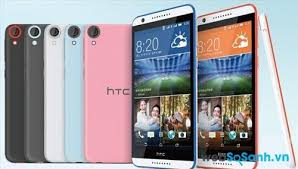htc: (129, 3, 198, 169), (193, 3, 262, 169)
